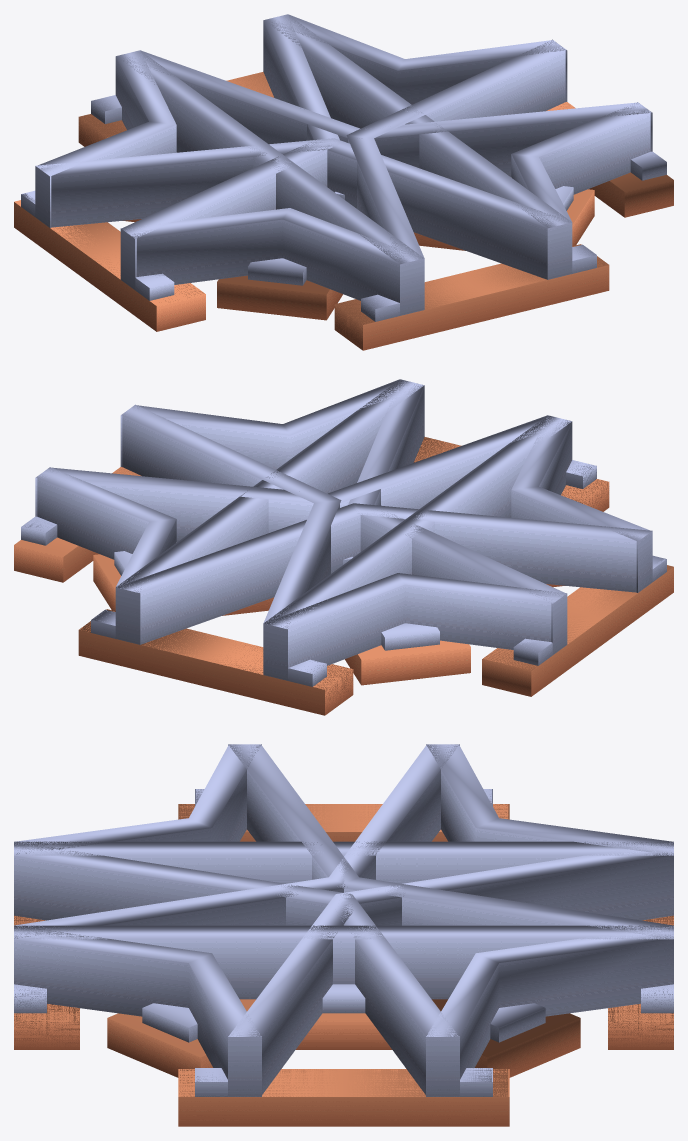
The model's file is cross4.glb.
3 renders of one model, top to bottom at view 1: azimuth 30°, elevation 25°; view 2: azimuth 150°, elevation 25°; view 3: azimuth 270°, elevation 25°, orthographic. The views are drawn at different scales.
Parts seen in each view (by area): view 1: cross4; view 2: cross4; view 3: cross4.
Boxes of the visible parts, x1,y1,x2,y2 form: cross4: (14,14,673,350); cross4: (14,379,673,715); cross4: (14,744,673,1126).
Bounding box in the file's own units: 1.05 × 0.15 × 1.
Materials: 5 (5 with a texture image).
